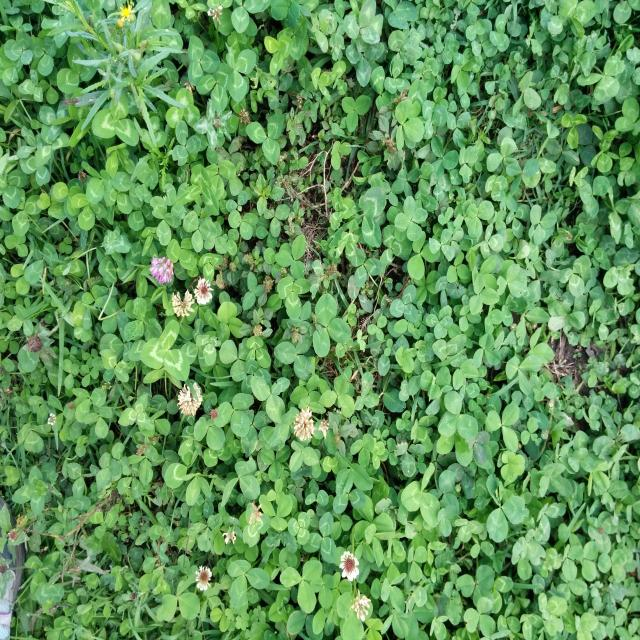Four Leaf Clover: (394, 196, 428, 241)
